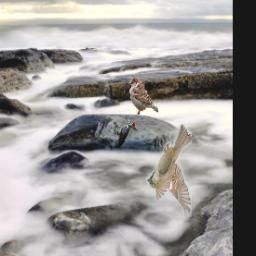Sparrow: (147, 125, 193, 218), (128, 77, 158, 115)
Woodpecker: (115, 118, 136, 149)
